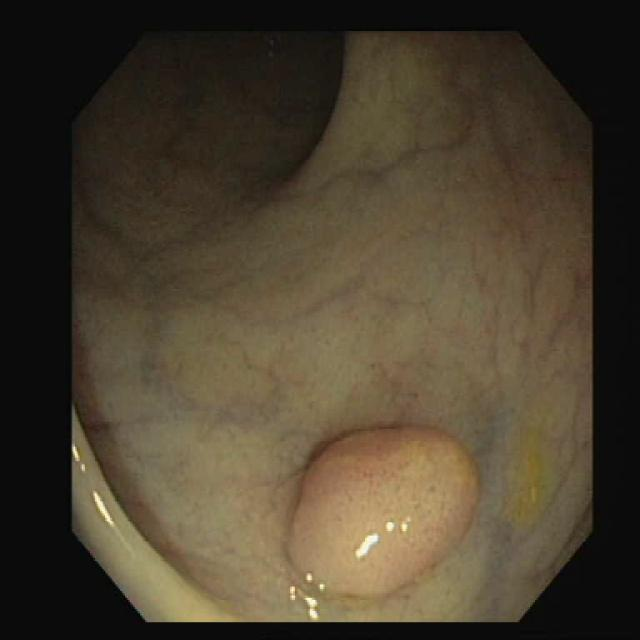tumor: (288, 429, 478, 596)
